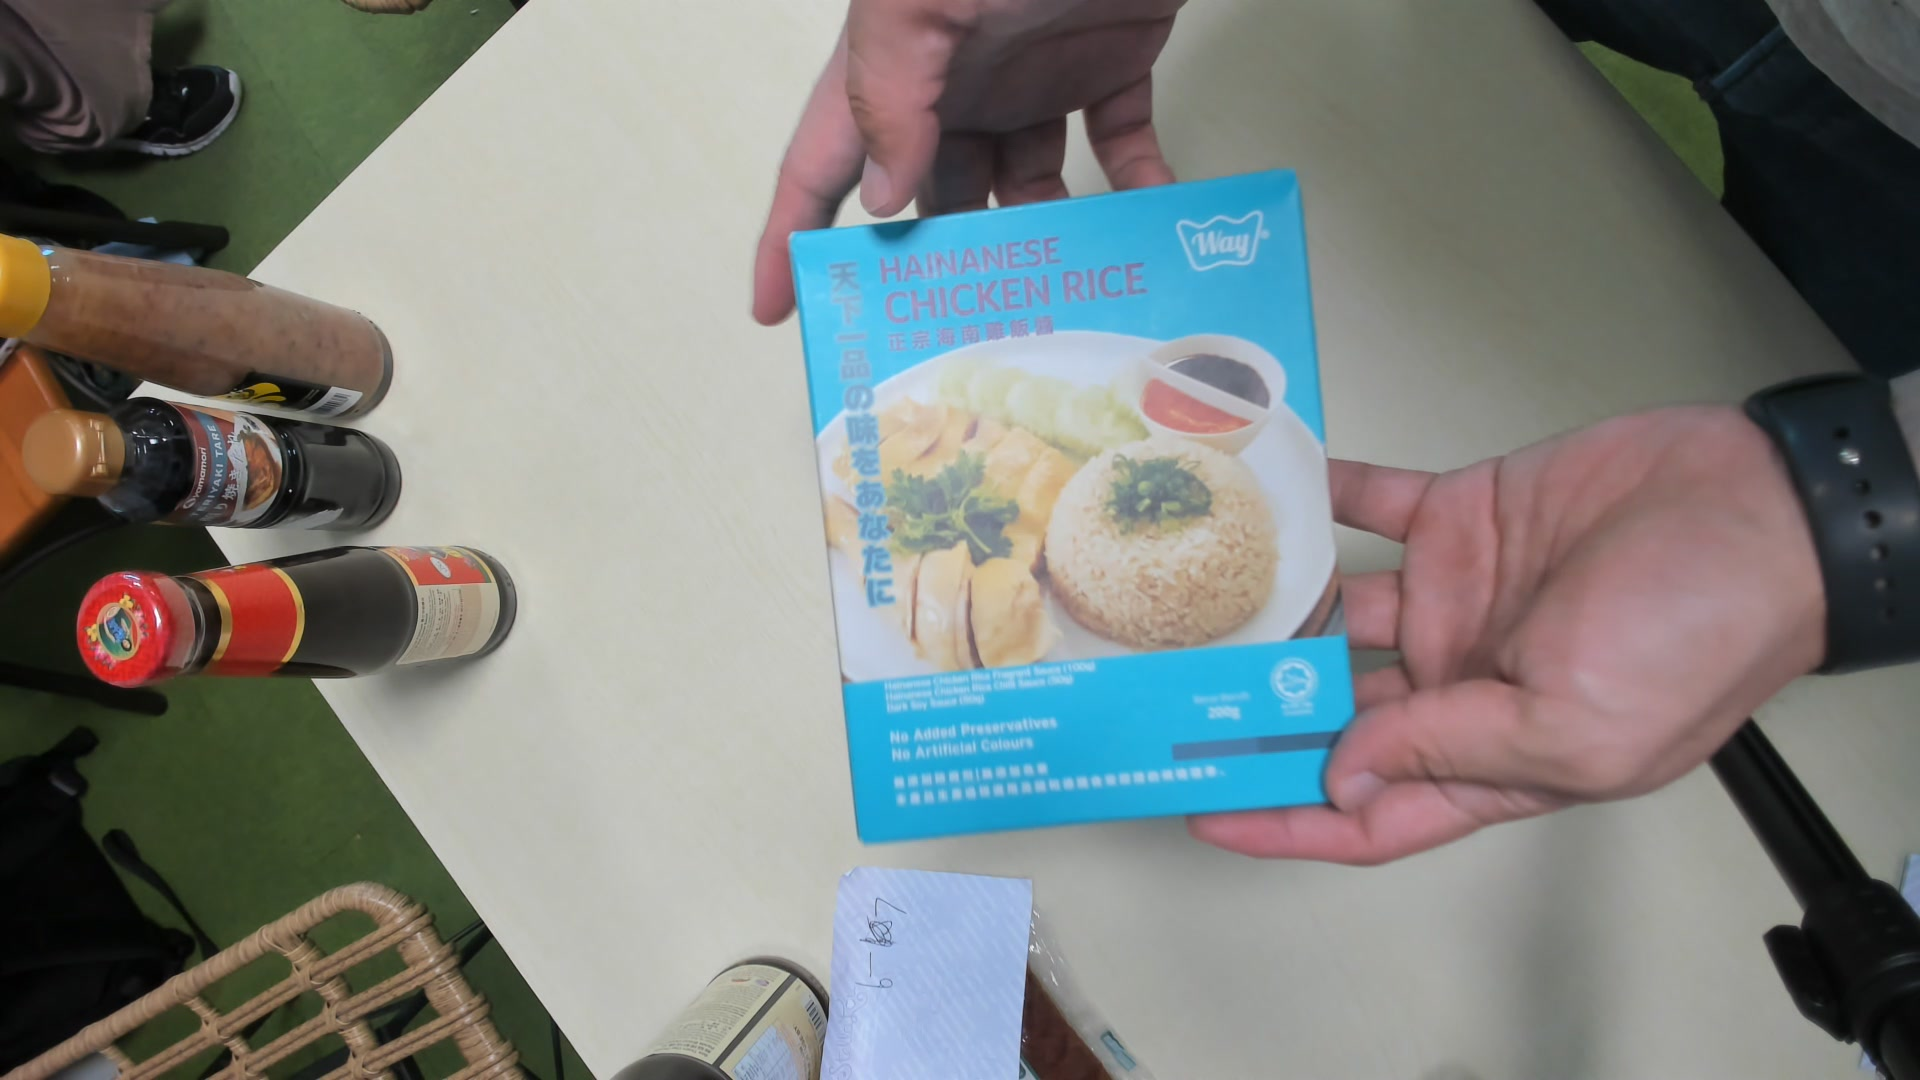OtherSauceDressingSoupbasePaste_200-299g_Halal_NonHealthy: (785, 175, 1366, 840)
